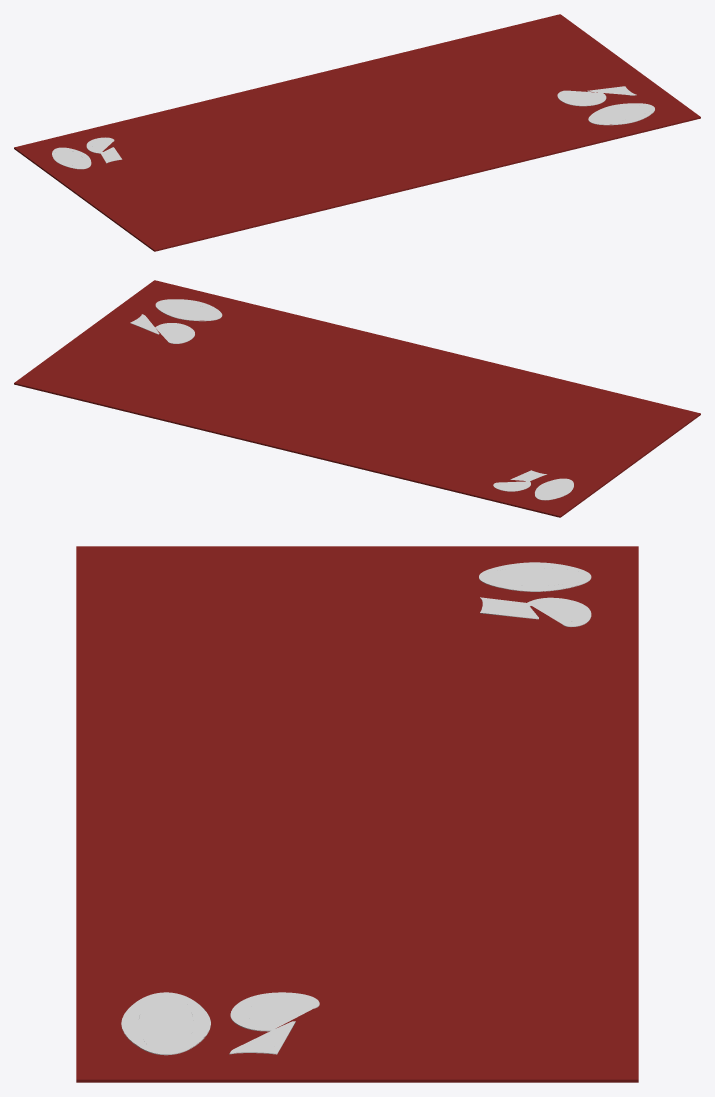
File: Singkwenta.fbx
3 renders of one model, top to bottom at view 1: azimuth 30°, elevation 25°; view 2: azimuth 150°, elevation 25°; view 3: azimuth 270°, elevation 25°, orthographic. The views are drawn at different scales.
Parts seen in each view (by area): view 1: Singkwenta, SIngkwenta Texts; view 2: Singkwenta, SIngkwenta Texts; view 3: Singkwenta, SIngkwenta Texts.
Boxes of the visible parts, box(x1,y1,x2,y2) form: Singkwenta: box(14, 14, 700, 251); SIngkwenta Texts: box(52, 86, 654, 169); Singkwenta: box(14, 280, 700, 517); SIngkwenta Texts: box(130, 299, 573, 500); Singkwenta: box(76, 546, 638, 1082); SIngkwenta Texts: box(121, 562, 591, 1055).
Size of the model in its own units: 11.76 by 0.046 by 5.24.
